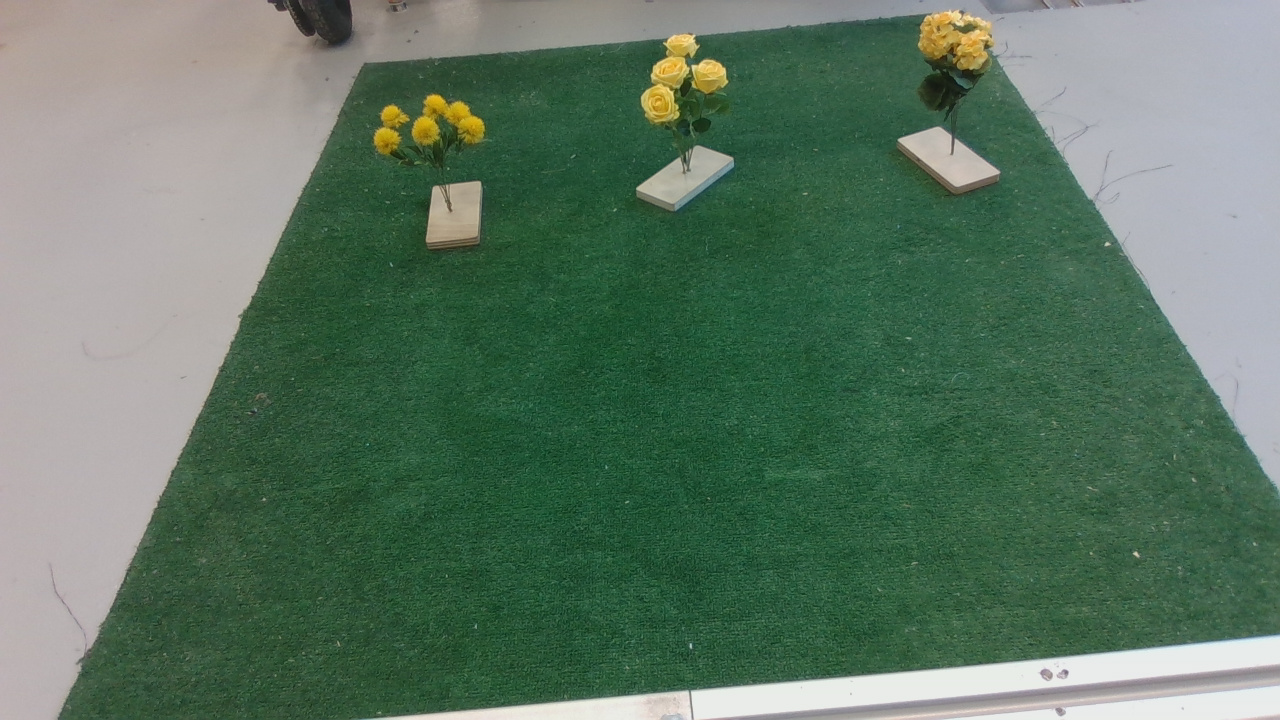dandelion: (370, 95, 499, 175)
geranium: (923, 11, 1003, 123)
rose: (636, 30, 740, 154)
